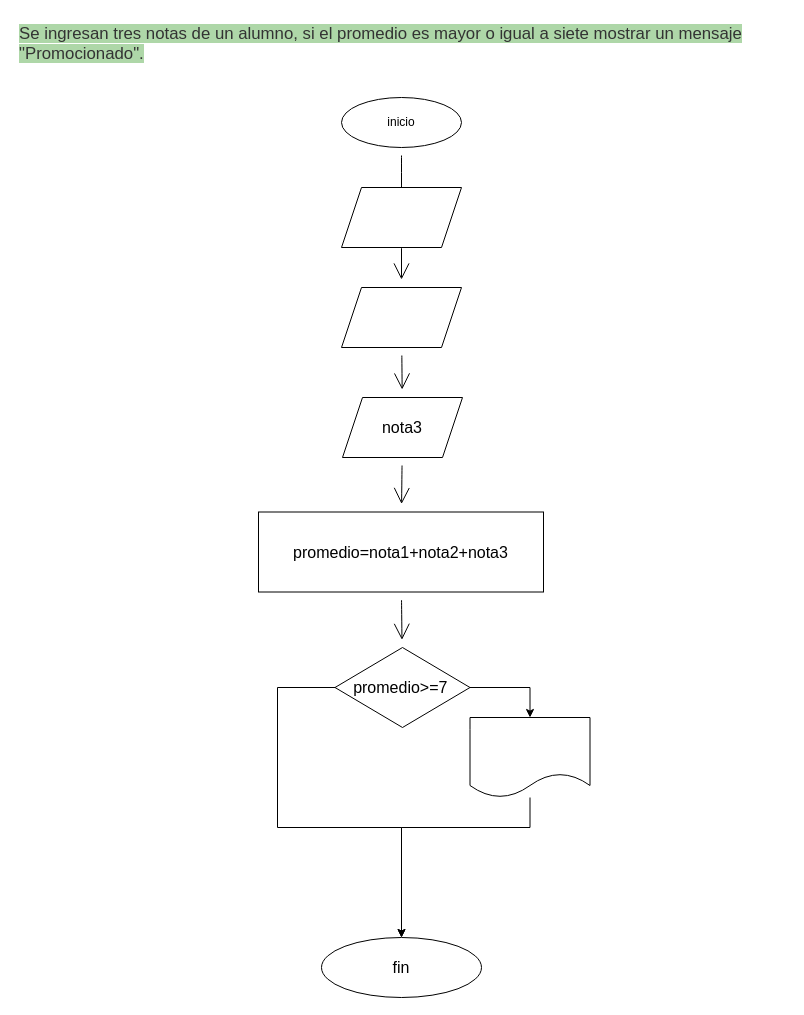
Some shapes in this 804 by 1015 pixel diagram are drawn without their labels. Each missing label, with the box of its shape:
"¡Promocionado!": (469, 716, 590, 798)
nota1: (340, 186, 462, 248)
nota2: (340, 286, 462, 348)
